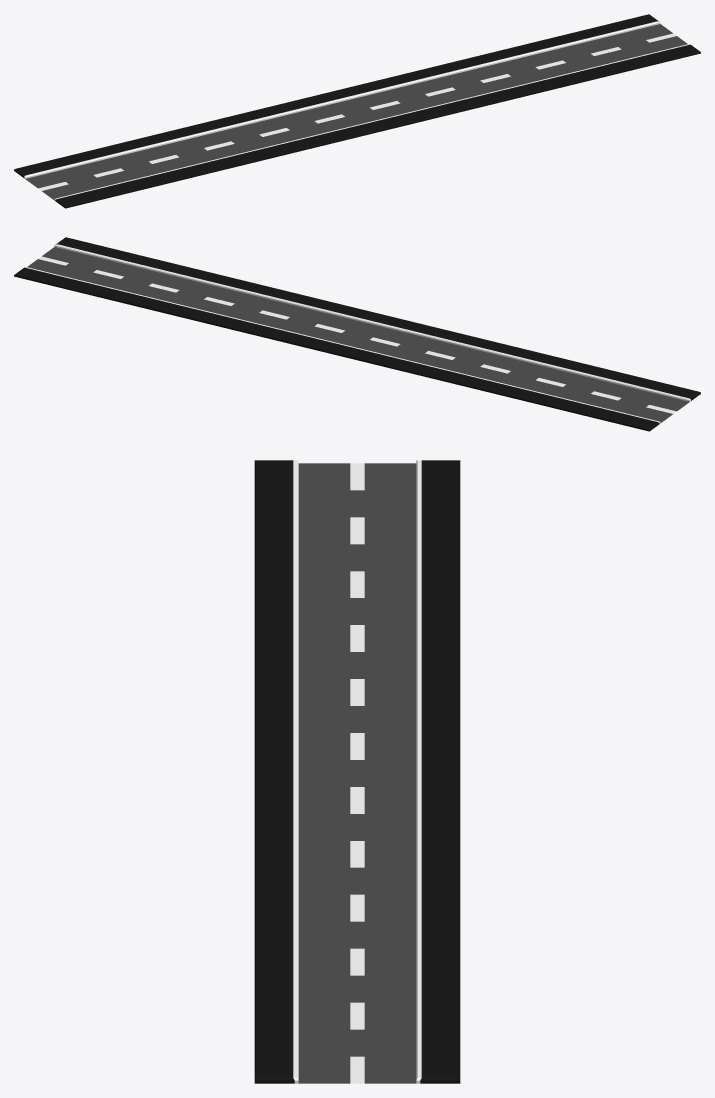
Rendered from street.obj.
3 views of the same model, one above another, from view 1: azimuth 30°, elevation 25°; view 2: azimuth 150°, elevation 25°; view 3: azimuth 270°, elevation 25° (orthographic). The views are drawn at different scales.
Visible parts, largest first — view 1: Plane, Strip_Plane.001; view 2: Plane, Strip_Plane.001; view 3: Plane, Strip_Plane.001.
Part boxes in pixels (x1,y1,x2,y2): Plane: [14, 14, 700, 208]; Strip_Plane.001: [38, 33, 676, 190]; Plane: [14, 237, 700, 431]; Strip_Plane.001: [38, 256, 676, 413]; Plane: [254, 460, 460, 1083]; Strip_Plane.001: [350, 463, 364, 1083].
Size of the model in its own units: 949 by 3.03 by 133.
1 material, 1 textured.
